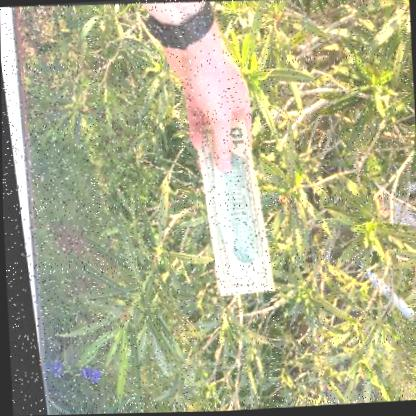dollar_back: (189, 119, 268, 297)
